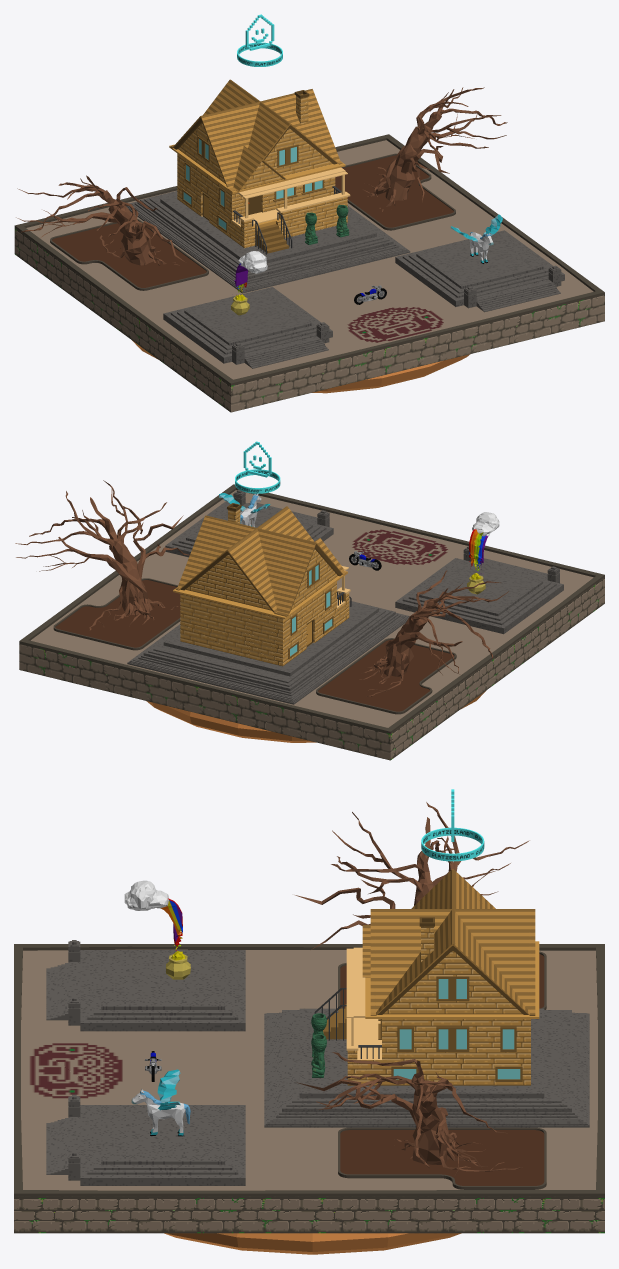
3 renders of one model, top to bottom at view 1: azimuth 30°, elevation 25°; view 2: azimuth 150°, elevation 25°; view 3: azimuth 270°, elevation 25°, orthographic. The views are drawn at different scales.
Parts seen in each view (by area): view 1: Cube.011, Cube.508, UNDERGROUND_PIZZA, OBJRANDOM_RAINBOW, TYPE_PREMIUM, ANIMAL_PEGASO; view 2: Cube.011, Cube.508, UNDERGROUND_PIZZA, OBJRANDOM_RAINBOW, TYPE_PREMIUM, ANIMAL_PEGASO; view 3: Cube.011, Cube.508, UNDERGROUND_PIZZA, OBJRANDOM_RAINBOW, ANIMAL_PEGASO, TYPE_PREMIUM.
Part boxes in pixels (box(x1,y1,x2,y2)): Cube.011: box(14, 87, 604, 412); Cube.508: box(169, 79, 350, 254); UNDERGROUND_PIZZA: box(132, 340, 470, 393); OBJRANDOM_RAINBOW: box(231, 251, 267, 315); TYPE_PREMIUM: box(237, 14, 282, 66); ANIMAL_PEGASO: box(450, 214, 502, 263); Cube.011: box(15, 480, 604, 760); Cube.508: box(173, 503, 351, 666); UNDERGROUND_PIZZA: box(146, 690, 486, 742); OBJRANDOM_RAINBOW: box(467, 512, 499, 594); TYPE_PREMIUM: box(235, 441, 280, 493); ANIMAL_PEGASO: box(219, 493, 270, 527); Cube.011: box(14, 802, 604, 1233); Cube.508: box(314, 869, 539, 1085); UNDERGROUND_PIZZA: box(164, 1233, 461, 1254); OBJRANDOM_RAINBOW: box(124, 880, 190, 979); ANIMAL_PEGASO: box(131, 1069, 190, 1136); TYPE_PREMIUM: box(421, 789, 484, 861).
Bounding box in the file's own units: 5099 × 2678 × 4000.
Materials: 44 (7 with a texture image).
